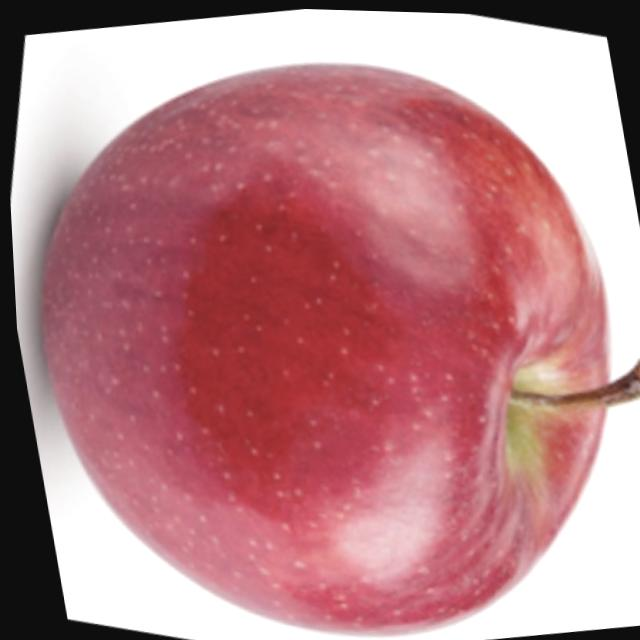organik: (0, 6, 640, 640)
